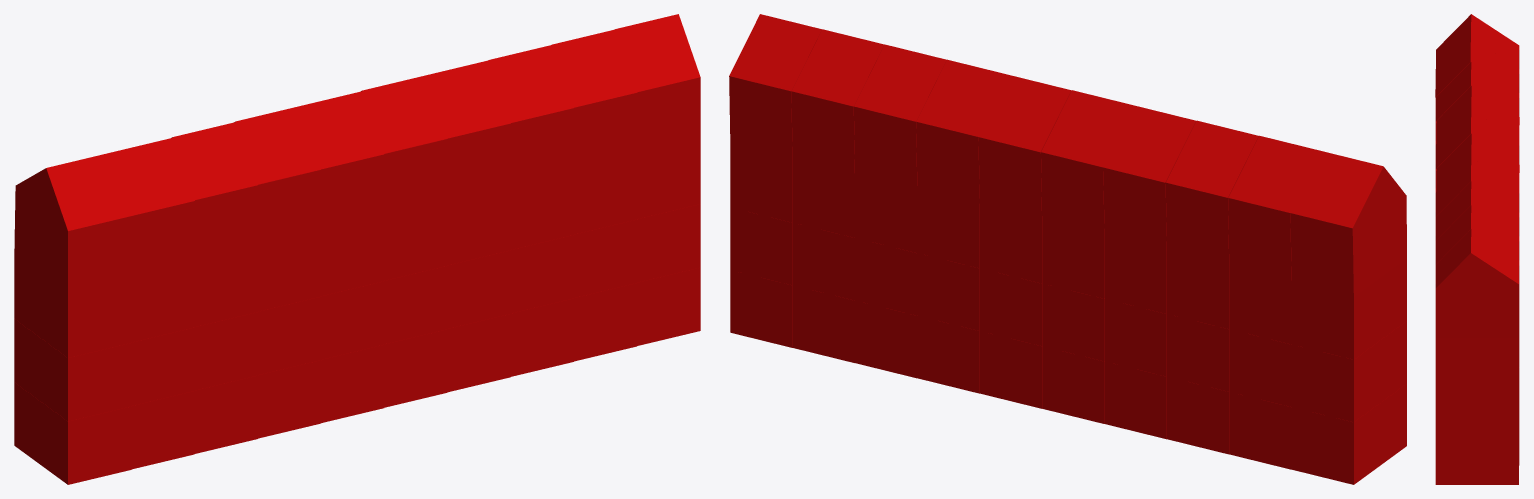
Rendered from Stena_kubiki.fbx.
3 renders of one model, left to right at view 1: azimuth 30°, elevation 25°; view 2: azimuth 150°, elevation 25°; view 3: azimuth 270°, elevation 25°, orthographic. The views are drawn at different scales.
Parts seen in each view (by area): view 1: Object027, Object029, Object030, Object028, Object024, Object018, Object023, Object020, Object016, Object015, Object017, Object021 (+38 smaller); view 2: Object027, Object029, Object030, Object028, Object024, Object019, Object021, Object022, Object017, Object016, Object015, Object023 (+38 smaller); view 3: Object063, Object065, Object064, Object066, Object015, Object019, Object021, Object023, Object018, Object020, Object024, Object017 (+2 smaller).
Boxes of the visible parts, box(x1,y1,x2,y2) form: Object027: box(14, 186, 131, 294); Object029: box(14, 319, 131, 421); Object030: box(14, 382, 131, 484); Object028: box(14, 255, 131, 357); Object024: box(16, 153, 131, 230); Object018: box(425, 60, 510, 138); Object023: box(110, 138, 194, 215); Object020: box(299, 91, 384, 169); Object016: box(552, 29, 637, 107); Object015: box(615, 14, 700, 92); Object017: box(489, 45, 573, 122); Object021: box(234, 106, 320, 184); Object027: box(1290, 196, 1406, 296); Object029: box(1291, 321, 1406, 422); Object030: box(1291, 384, 1406, 484); Object028: box(1291, 258, 1406, 359); Object024: box(1291, 151, 1406, 228); Object019: box(978, 75, 1071, 152); Object021: box(1103, 105, 1196, 182); Object022: box(1166, 120, 1258, 197); Object017: box(854, 44, 946, 121); Object016: box(792, 29, 884, 106); Object015: box(729, 14, 821, 91); Object023: box(1228, 135, 1321, 212); Object063: box(1435, 266, 1519, 337); Object065: box(1435, 367, 1519, 435); Object064: box(1435, 318, 1519, 386); Object066: box(1435, 417, 1519, 484); Object015: box(1435, 229, 1519, 288); Object019: box(1436, 133, 1519, 192); Object021: box(1436, 85, 1519, 144); Object023: box(1435, 38, 1518, 97); Object018: box(1435, 157, 1519, 216); Object020: box(1435, 109, 1519, 168); Object024: box(1435, 14, 1519, 72); Object017: box(1435, 181, 1519, 240).
Bounding box in the file's own units: 501 × 227 × 74.48.
